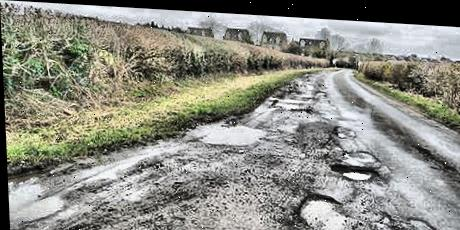pothole: (187, 115, 270, 148), (291, 187, 349, 229), (329, 160, 378, 178), (272, 92, 304, 111), (332, 124, 354, 135)
